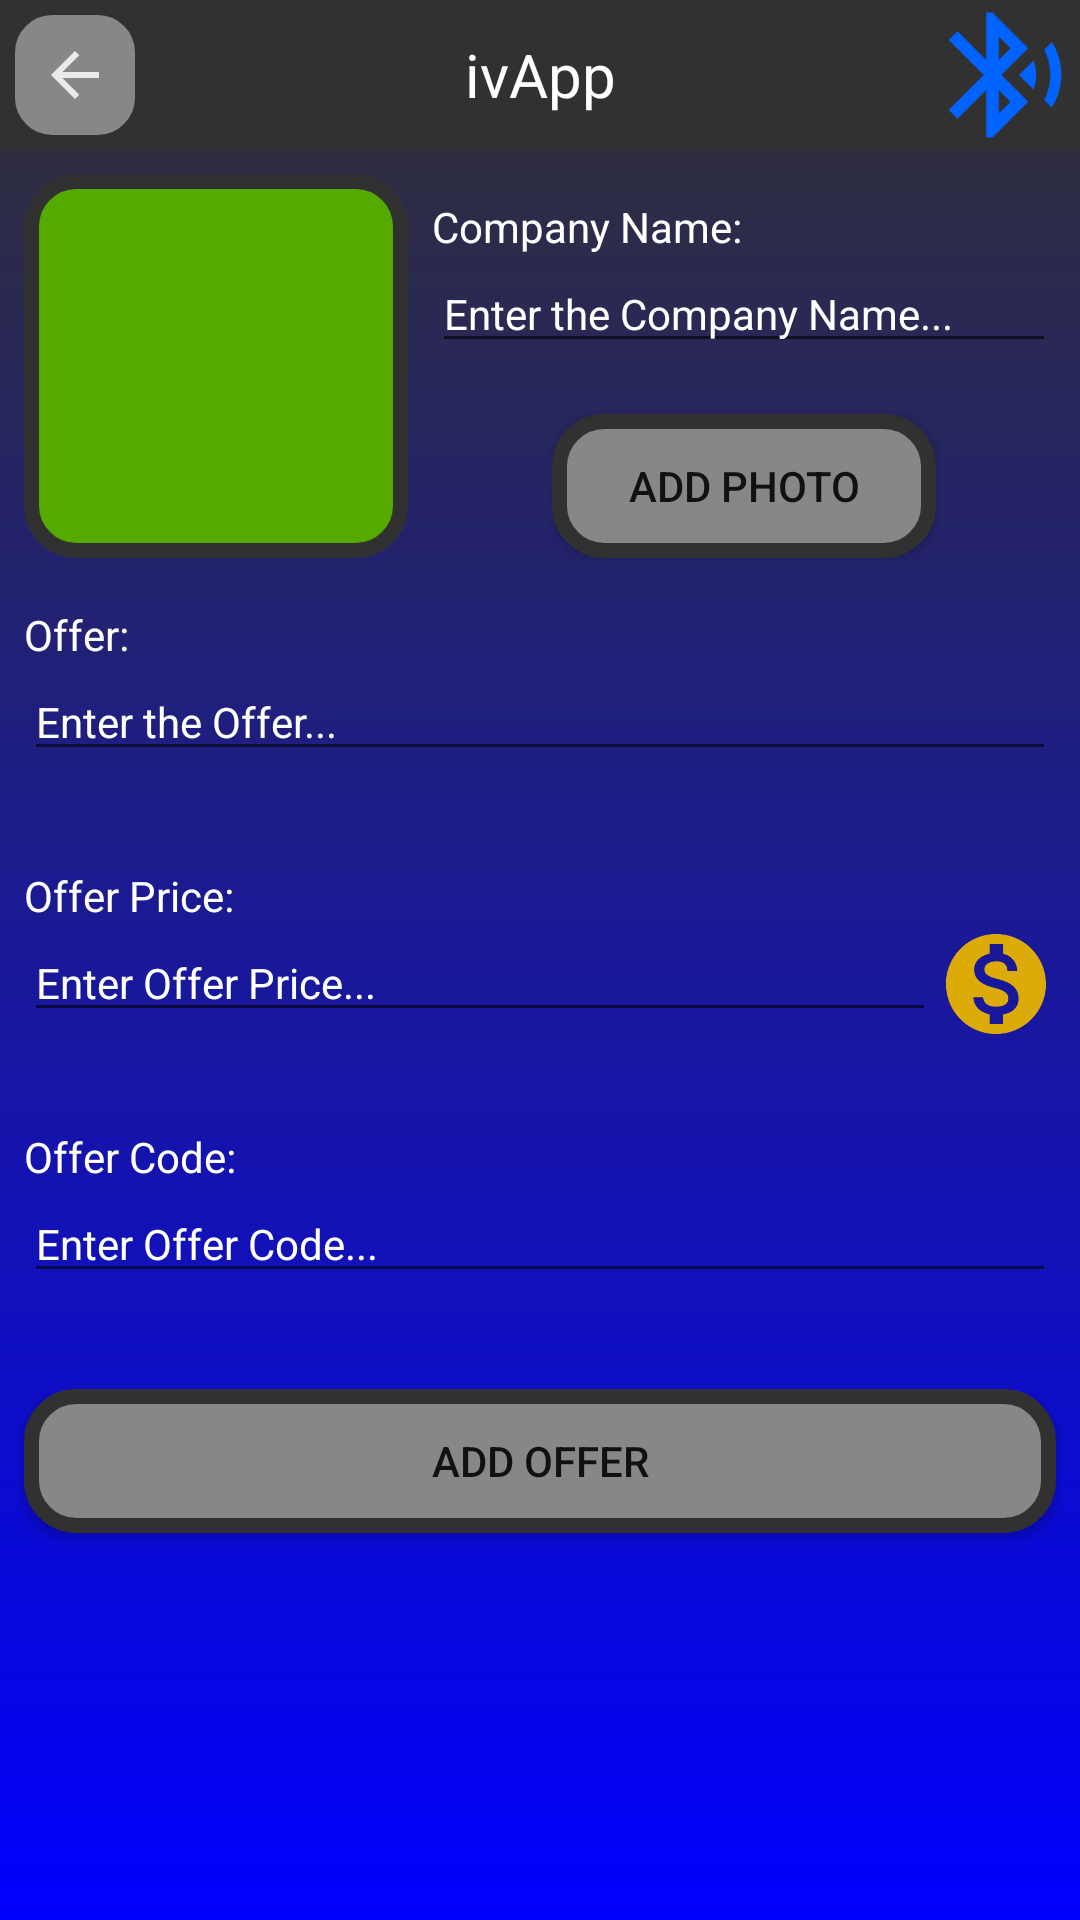

Named icons in this screenshot (1080px x 1920px) and their centers, [x,y]:
arrow back: [75,75]
monetization on: [996,984]
